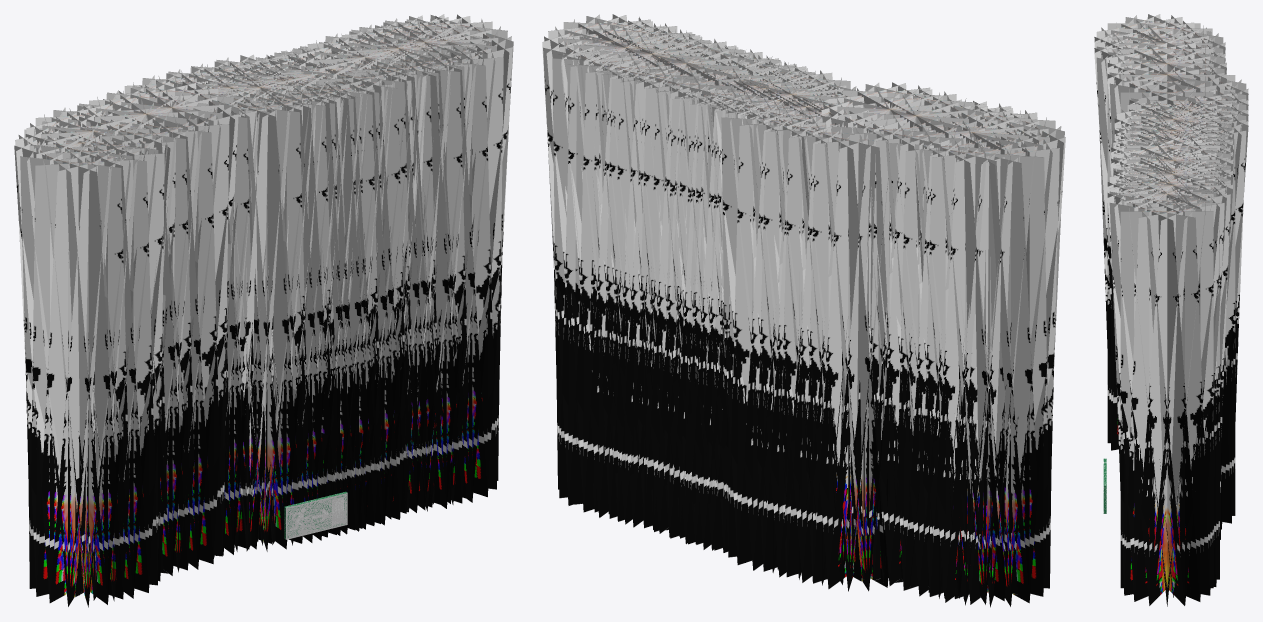
3 views of the same model, side by side, from view 1: azimuth 30°, elevation 25°; view 2: azimuth 150°, elevation 25°; view 3: azimuth 270°, elevation 25° (orthographic). The views are drawn at different scales.
Visible parts, largest first — view 1: Component_1 (×120), skeAEA2; view 2: Component_1 (×141); view 3: Component_1 (×60).
Part boxes in pixels (x1,y1,x2,y2): Component_1 (×120): (14,14,513,607); skeAEA2: (286,493,347,539); Component_1 (×141): (542,14,1065,606); Component_1 (×60): (1094,17,1248,606).
Bounding box in the file's own units: 220 × 67.55 × 194.
